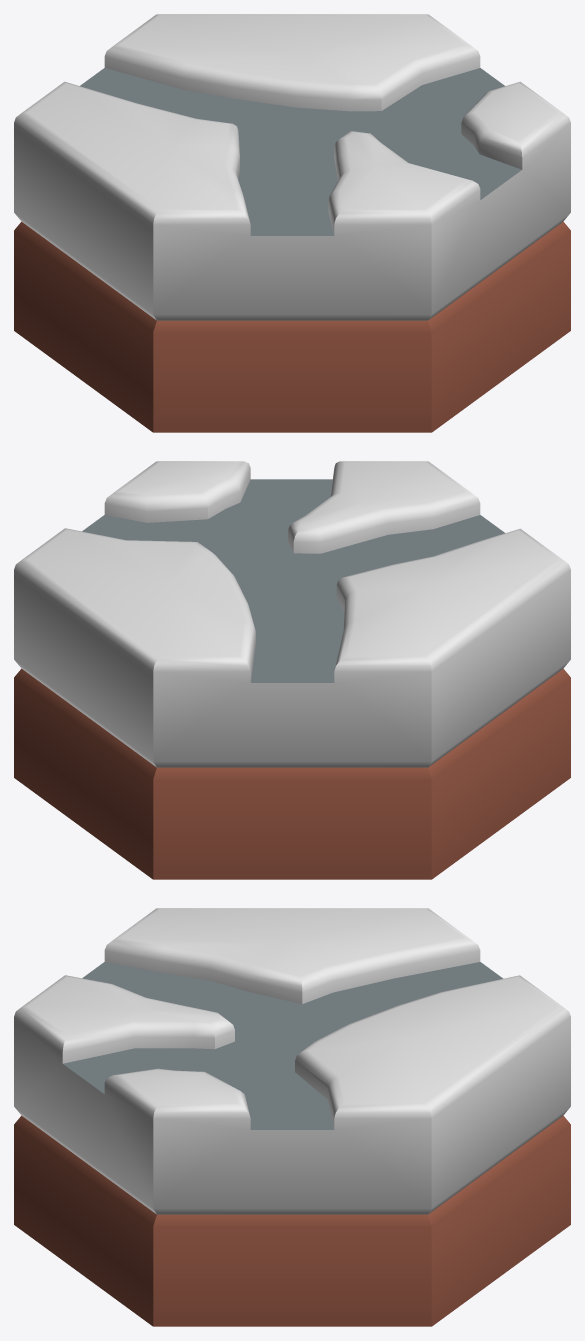
File: hex_snow_roadI_detail.gltf.glb
3 views of the same model, one above another, from view 1: azimuth 30°, elevation 25°; view 2: azimuth 150°, elevation 25°; view 3: azimuth 270°, elevation 25° (orthographic).
Parts seen in each view (by area): view 1: hex_snow_roadI_detail; view 2: hex_snow_roadI_detail; view 3: hex_snow_roadI_detail.
Boxes of the visible parts, <box> form: hex_snow_roadI_detail: <box>14,14,570,432</box>; hex_snow_roadI_detail: <box>14,461,570,879</box>; hex_snow_roadI_detail: <box>14,908,570,1326</box>.
Bounding box in the file's own units: 2 × 1 × 2.31.
